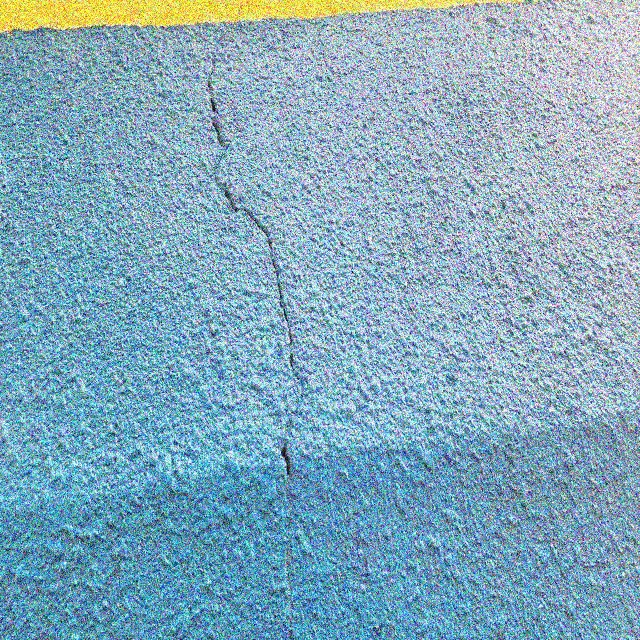SurfaceCrack: (157, 25, 343, 640)
